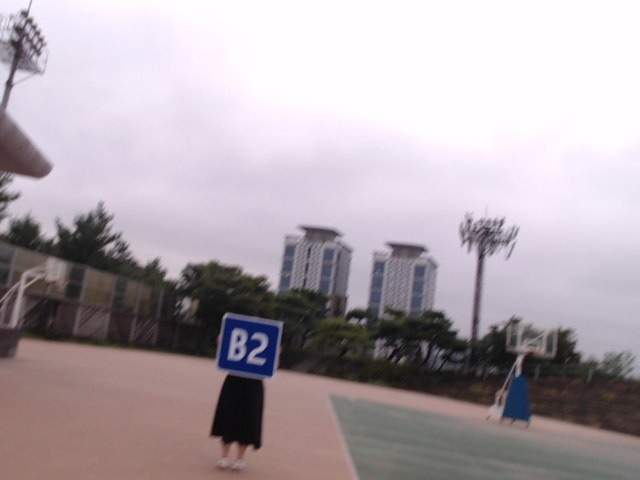delivery_b2: (213, 314, 282, 379)
